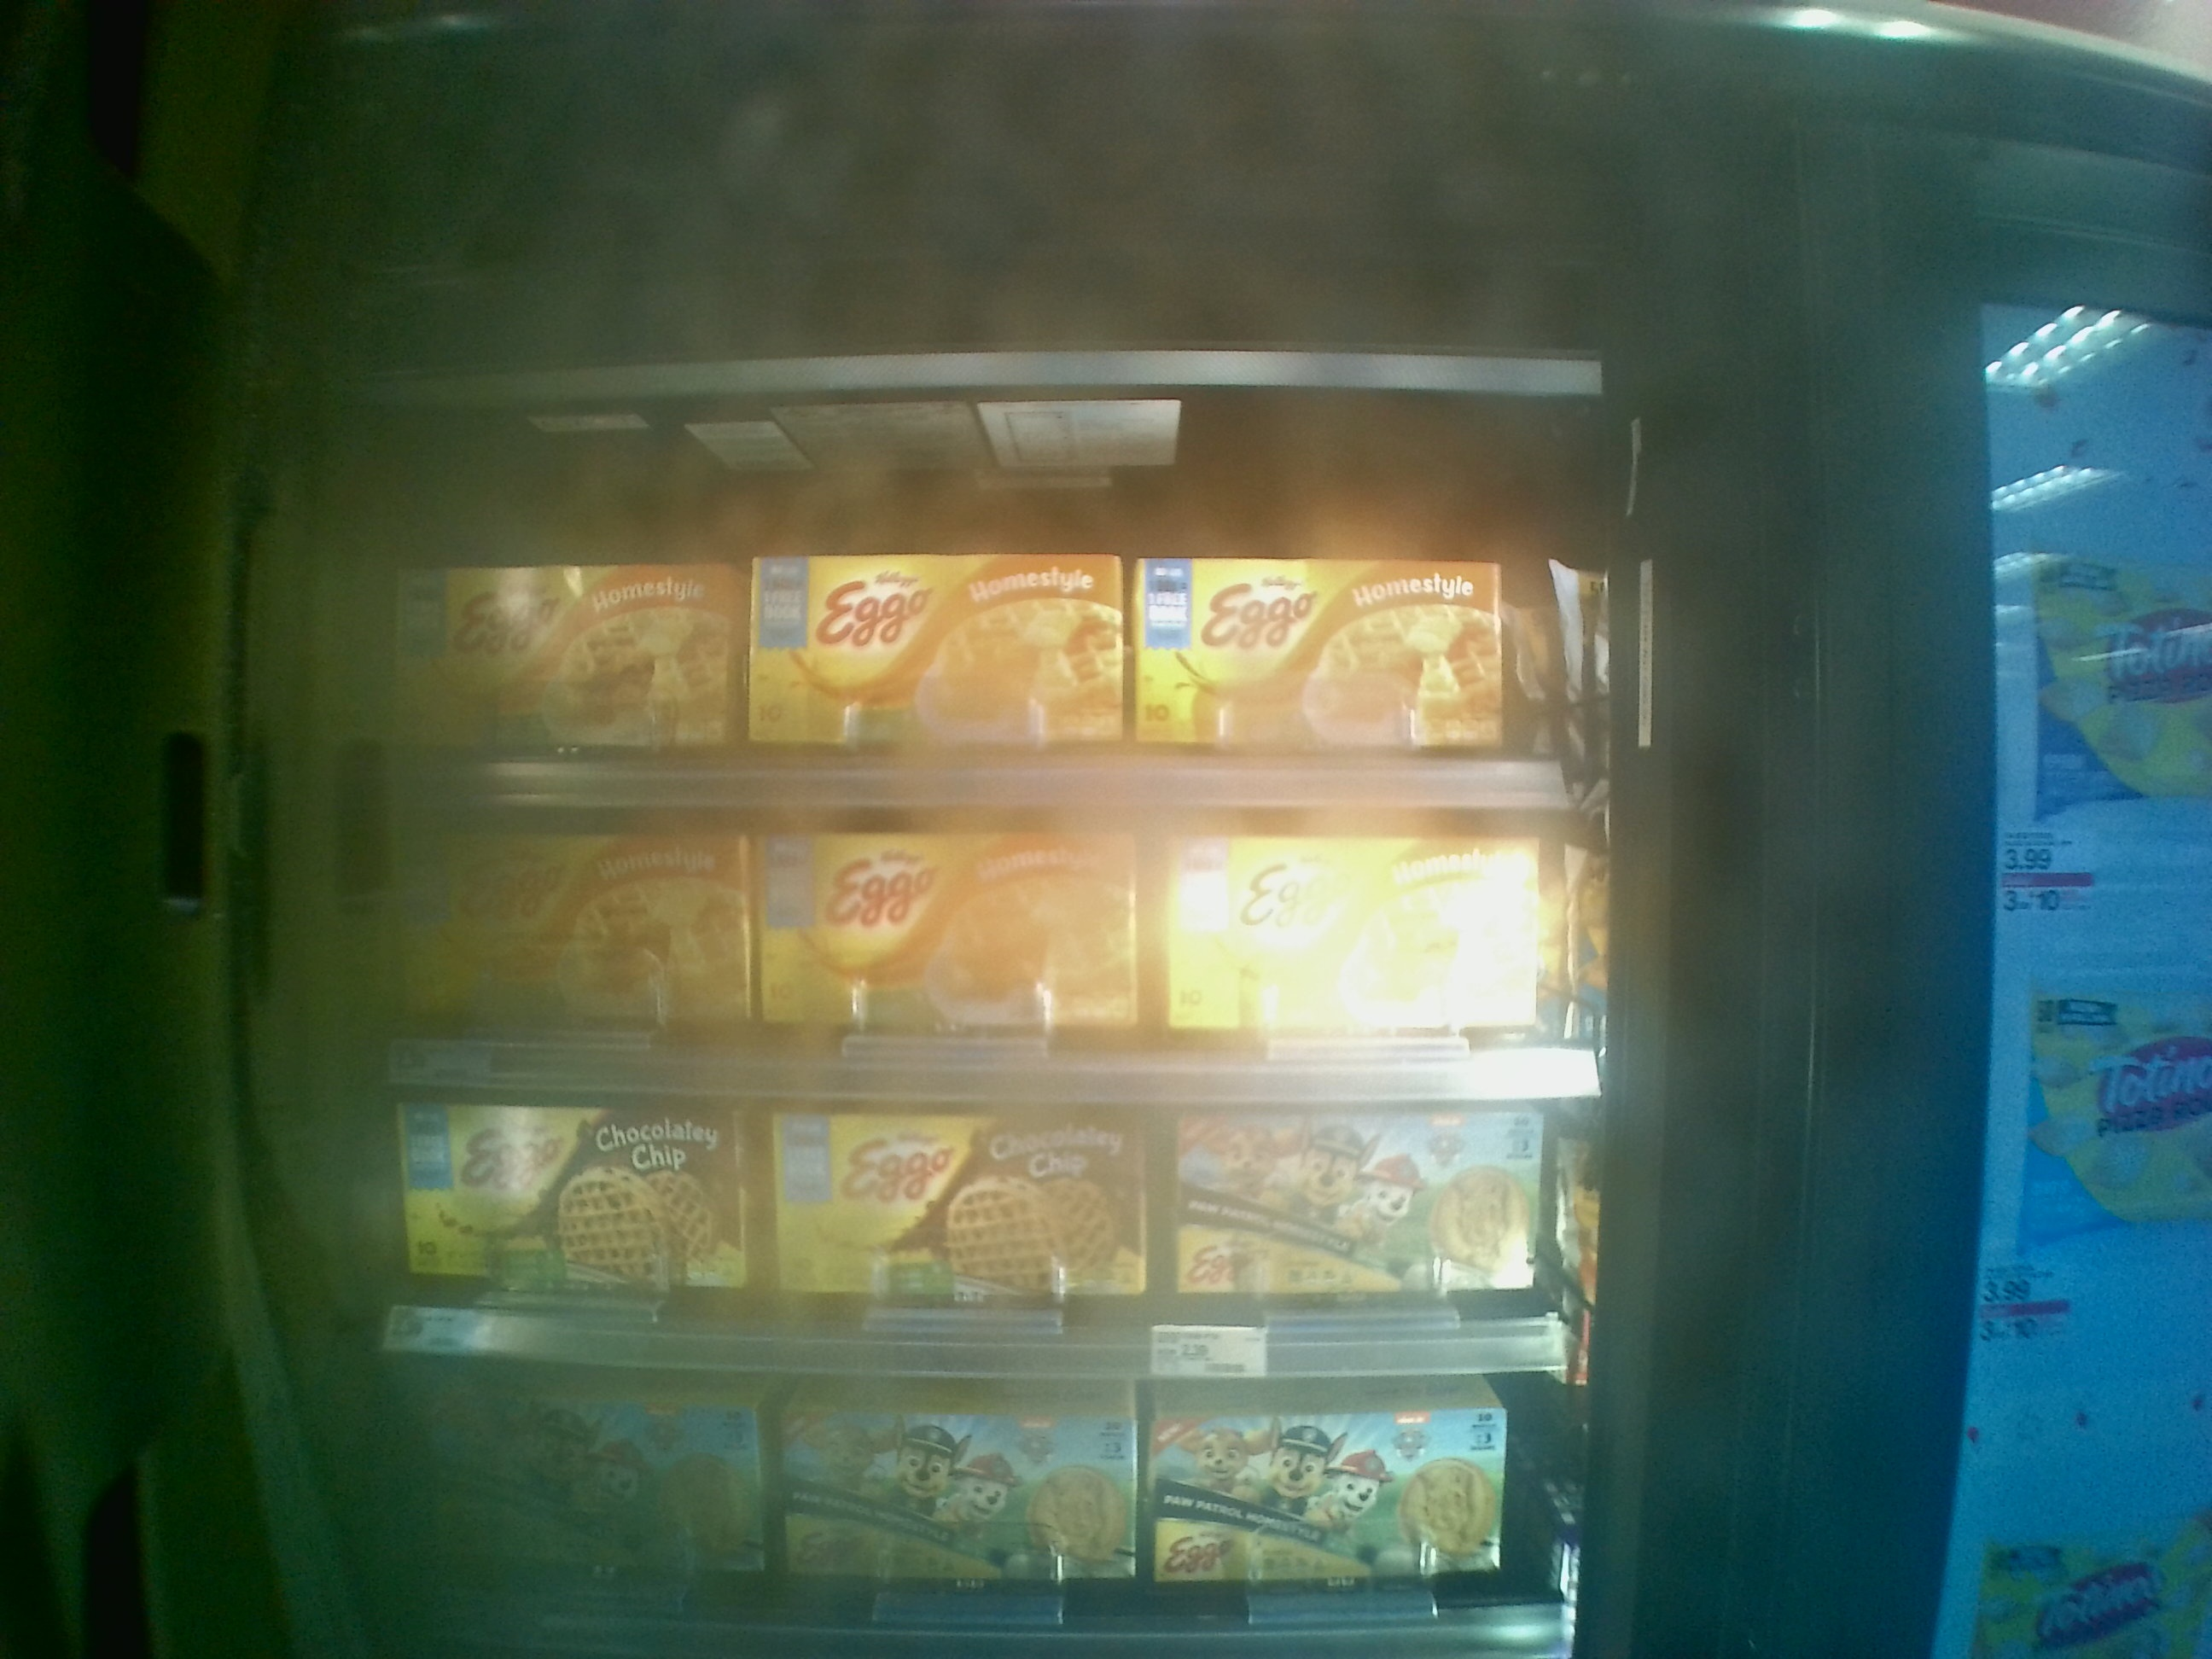shelf: (359, 361, 1587, 802)
